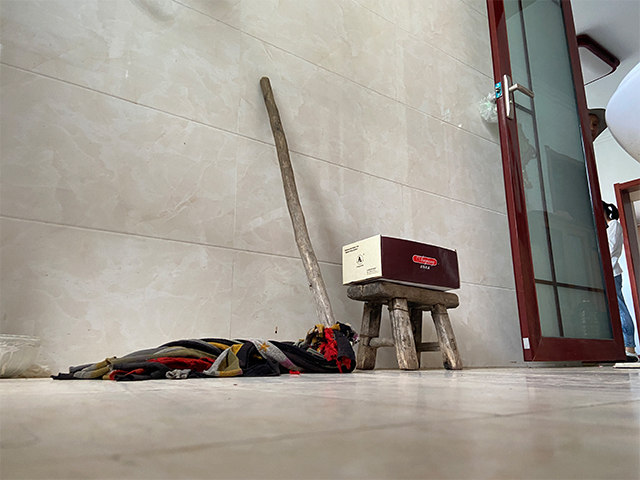stool: (344, 282, 465, 372)
